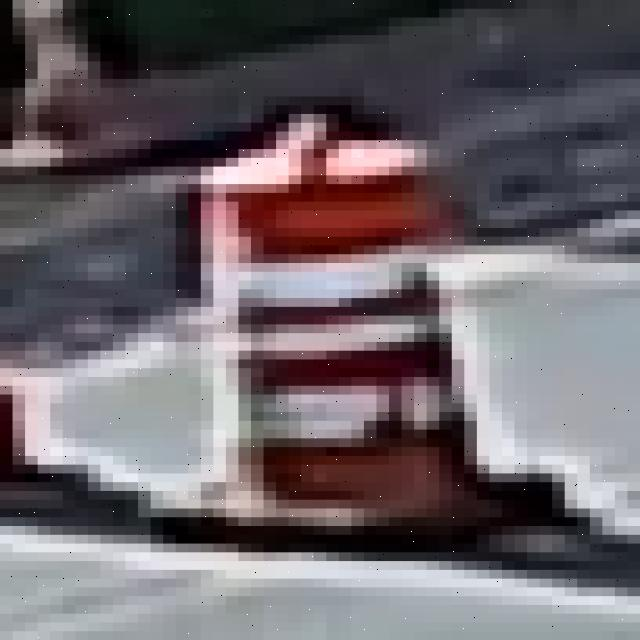big_cone: (190, 118, 483, 518)
